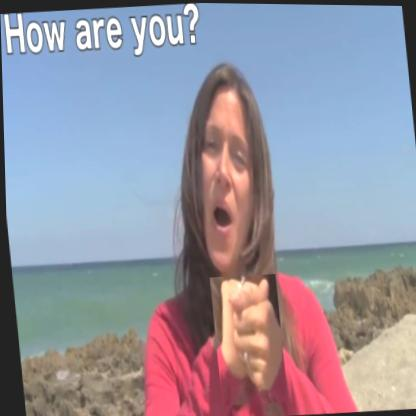HowAreYou: (208, 272, 286, 405)
